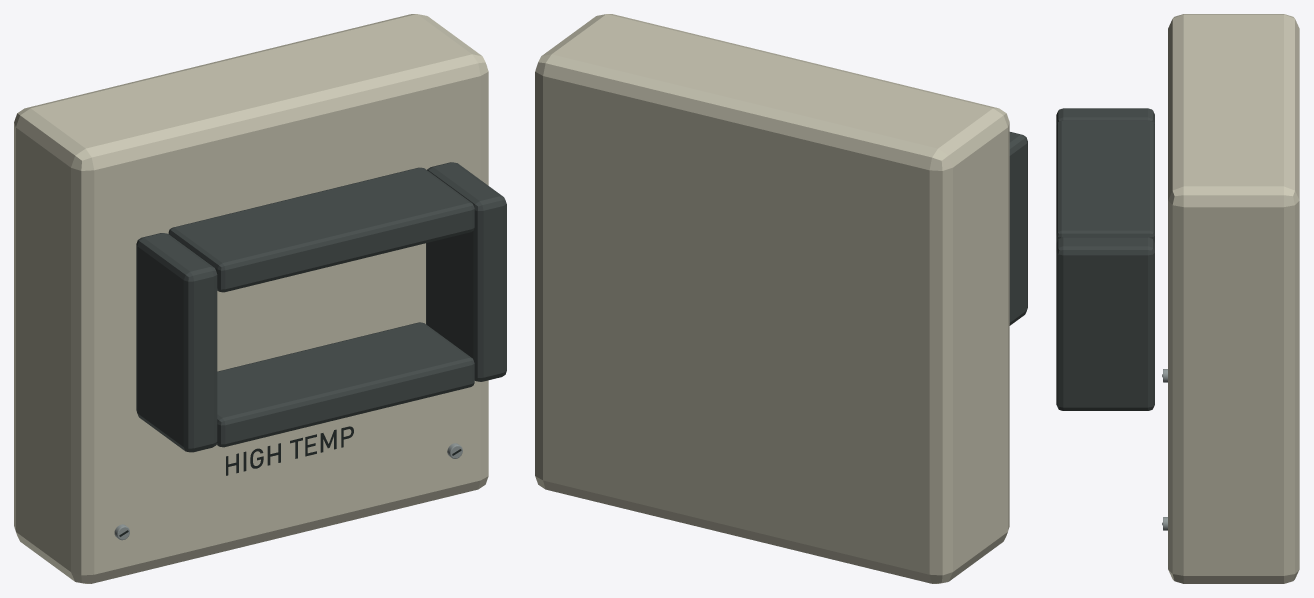
File: HEAT_Housing.fbx
The picture shows the model from 3 angles, left to right: view 1: azimuth 30°, elevation 25°; view 2: azimuth 150°, elevation 25°; view 3: azimuth 270°, elevation 25°; orthographic projection. The views are drawn at different scales.
Parts seen in each view (by area): view 1: HEAT_Housing_EXPORT; view 2: HEAT_Housing_EXPORT; view 3: HEAT_Housing_EXPORT.
Part boxes in pixels (x1,y1,x2,y2): HEAT_Housing_EXPORT: [14, 14, 506, 583]; HEAT_Housing_EXPORT: [535, 14, 1027, 583]; HEAT_Housing_EXPORT: [1056, 14, 1299, 583].
Bounding box in the file's own units: 0.253 × 0.253 × 0.1405.
